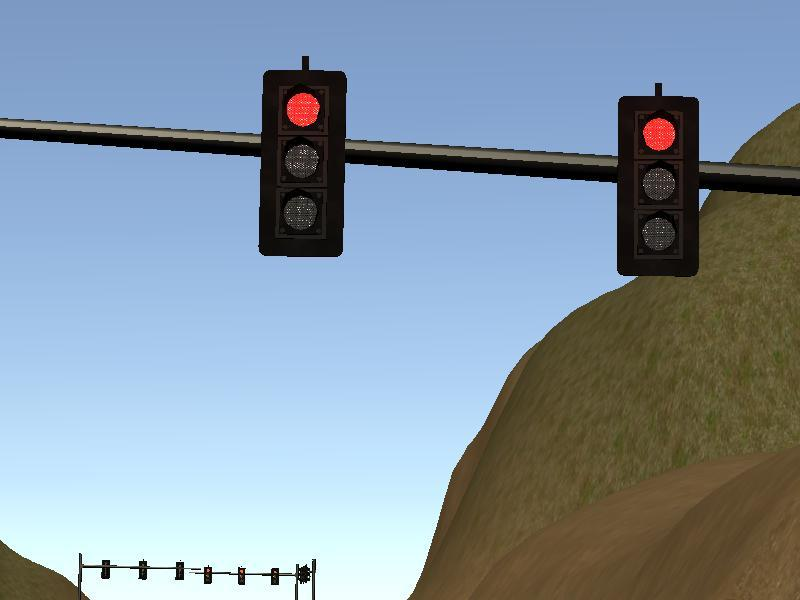Red: (259, 71, 345, 257), (616, 96, 701, 276), (203, 566, 212, 584), (270, 569, 279, 585), (238, 566, 245, 585)
